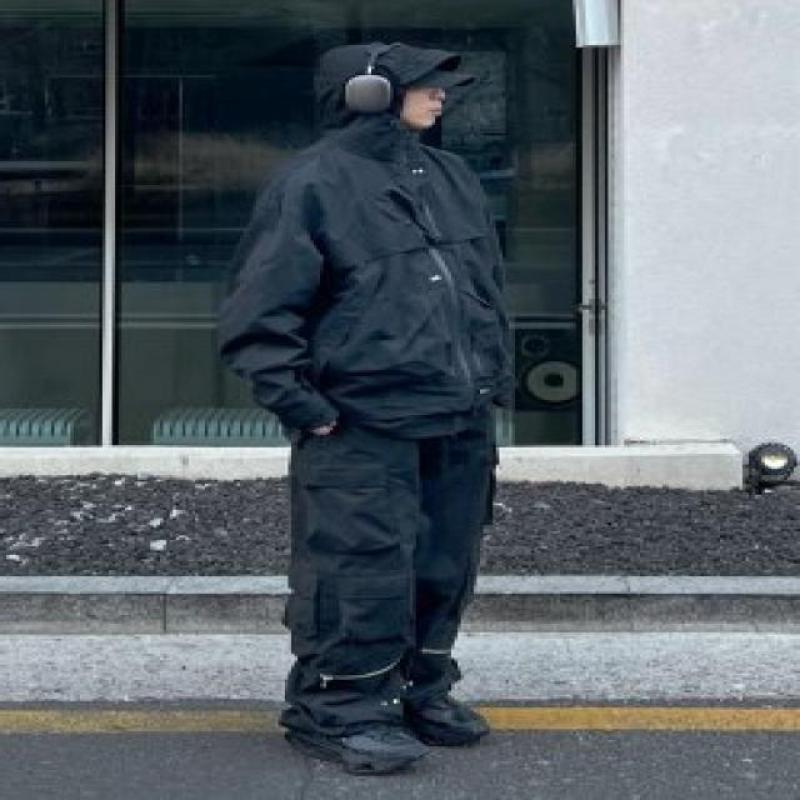coat: (210, 41, 515, 439)
trousers: (277, 413, 500, 739)
